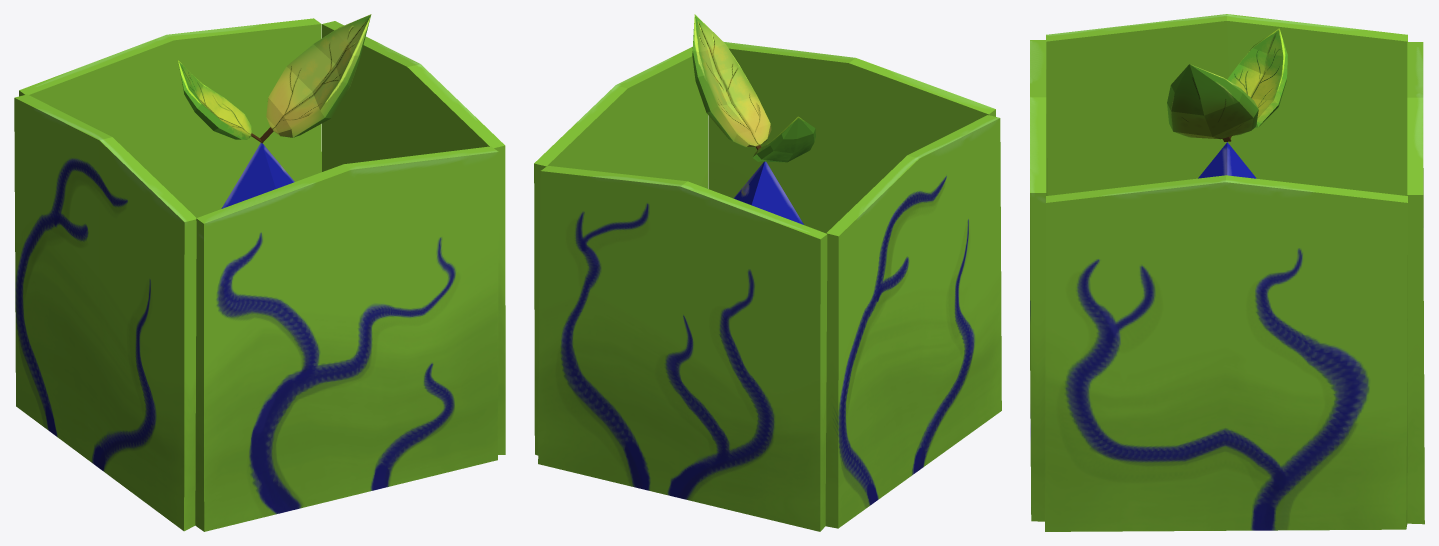
File: Seed D.fbx
The picture shows the model from 3 angles, left to right: view 1: azimuth 30°, elevation 25°; view 2: azimuth 150°, elevation 25°; view 3: azimuth 270°, elevation 25°; orthographic projection. The views are drawn at different scales.
Parts seen in each view (by area): view 1: Cube; view 2: Cube; view 3: Cube.
Part boxes in pixels (x1,y1,x2,y2): Cube: (14,14,505,531); Cube: (534,14,1001,531); Cube: (1030,14,1424,531).
Size of the model in its own units: 164 by 199 by 164.
